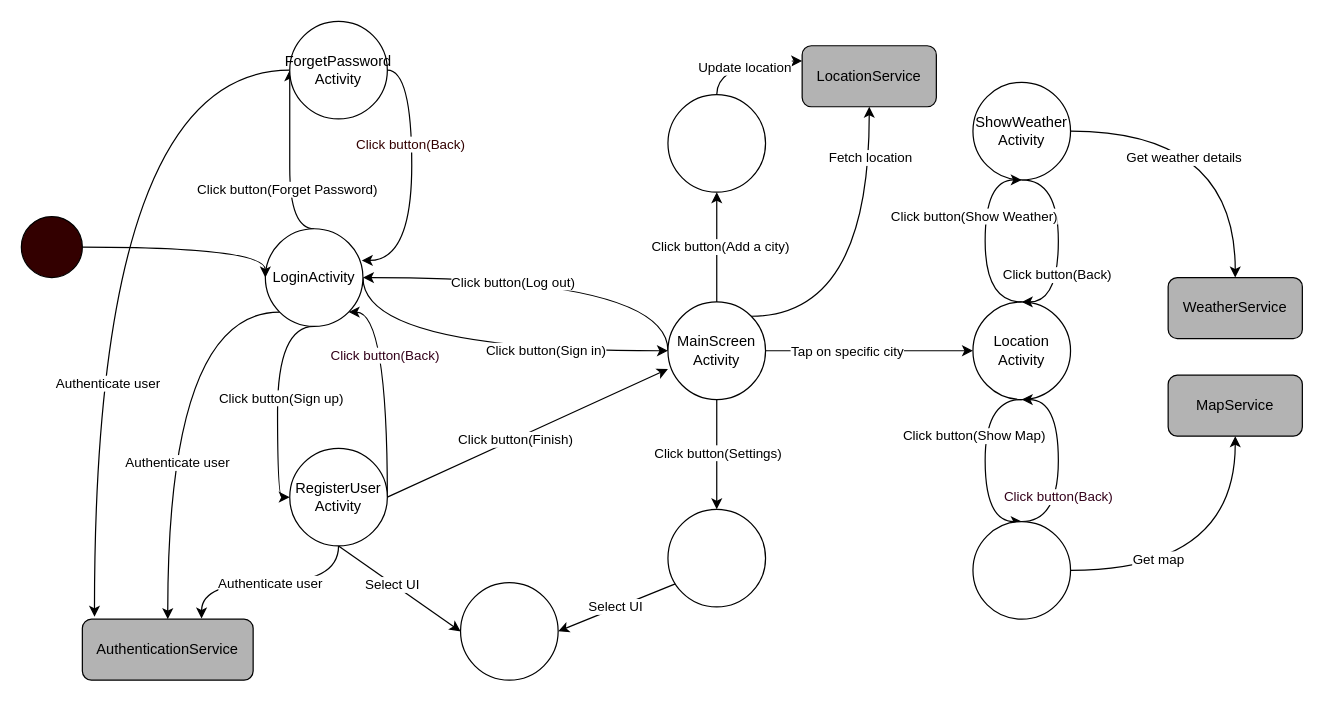
This 1324x702 diagram has some shape labels left out. Each missing label, with the centre of its shape:
AddLocation Activity: point (716, 142)
SelectUITheme Activity: point (508, 630)
Settings Activity: point (716, 557)
ShowMap Activity: point (1021, 569)
start: point (51, 246)
